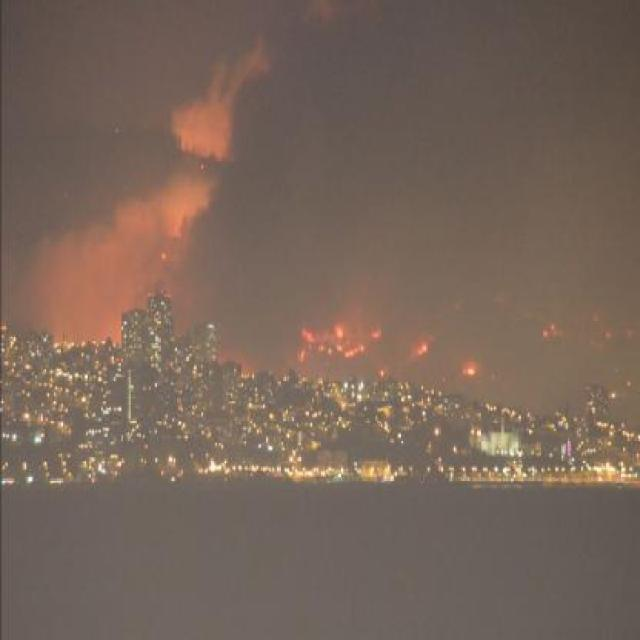Fire: (294, 308, 391, 360), (458, 358, 480, 378), (416, 344, 430, 356)
